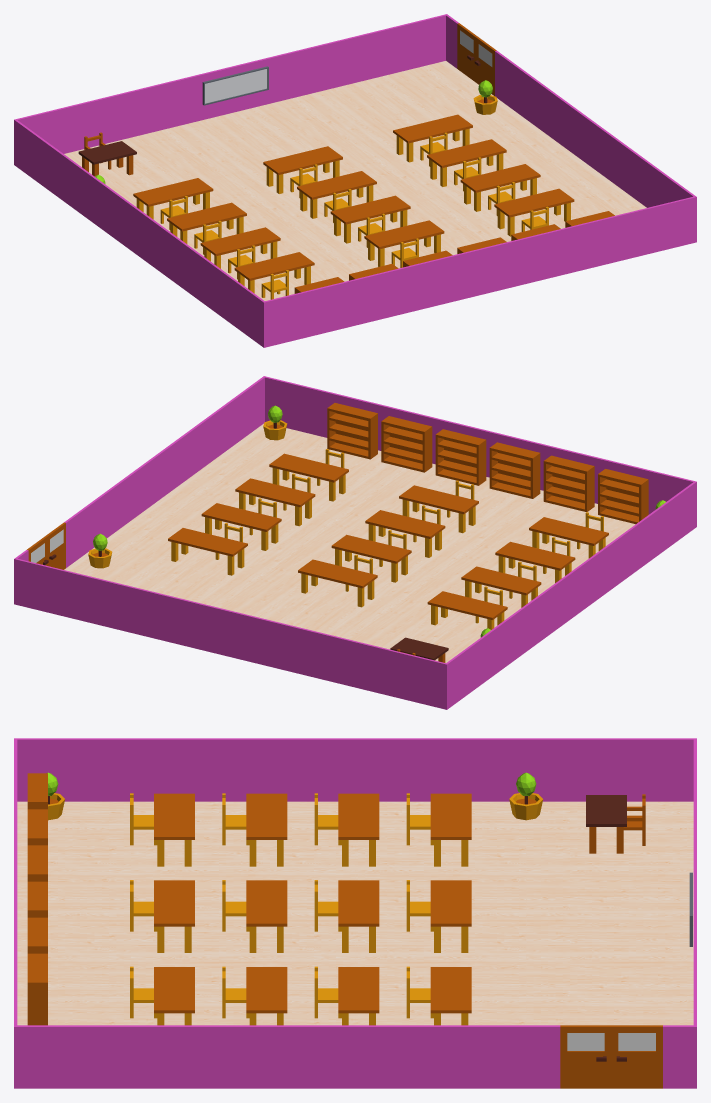
The model's file is 2_ClassRoom1.fbx.
3 views of the same model, one above another, from view 1: azimuth 30°, elevation 25°; view 2: azimuth 150°, elevation 25°; view 3: azimuth 270°, elevation 25° (orthographic). The views are drawn at different scales.
Parts seen in each view (by area): view 1: 1_Class2, 0_InnerGround.007, 0_Chair&Table.003, 0_Chair&Table.009, 0_Chair&Table.006, 0_Boards.002, 0_Chair&Table.004, 0_Chair&Table.002, 0_Chair&Table.008, 0_Chair&Table.001, 0_Chair&Table.007, 0_Chair&Table.018 (+7 smaller); view 2: 0_InnerGround.007, 1_Class2, 0_Shelf.005, 0_Shelf.006, 0_Shelf.008, 0_Shelf.007, 0_Shelf.009, 0_Shelf.004, 0_Chair&Table.009, 0_Chair&Table.001, 0_Chair&Table.004, 0_Chair&Table.008 (+12 smaller); view 3: 0_InnerGround.007, 1_Class2, 2_Door2Class, 2_Door1Class.005, 0_Chair&Table.011, 0_Chair&Table.022, 0_Chair&Table.002, 0_Chair&Table.004, 0_Chair&Table.005, 0_Chair&Table.018, 0_Chair&Table.001, 0_Chair&Table.003 (+23 smaller).
Part boxes in pixels (x1=…): 1_Class2: x1=14, y1=14, x2=696, y2=347; 0_InnerGround.007: x1=64, y1=61, x2=646, y2=300; 0_Chair&Table.003: x1=297, y1=171, x2=376, y2=218; 0_Chair&Table.009: x1=393, y1=114, x2=472, y2=162; 0_Chair&Table.006: x1=494, y1=188, x2=574, y2=236; 0_Boards.002: x1=202, y1=66, x2=268, y2=105; 0_Chair&Table.004: x1=263, y1=146, x2=342, y2=193; 0_Chair&Table.002: x1=330, y1=195, x2=410, y2=243; 0_Chair&Table.008: x1=427, y1=139, x2=506, y2=186; 0_Chair&Table.001: x1=364, y1=220, x2=444, y2=266; 0_Chair&Table.007: x1=460, y1=164, x2=540, y2=211; 0_Chair&Table.018: x1=167, y1=202, x2=246, y2=243; 0_InnerGround.007: x1=64, y1=423, x2=635, y2=662; 1_Class2: x1=14, y1=376, x2=696, y2=709; 0_Shelf.005: x1=543, y1=455, x2=594, y2=511; 0_Shelf.006: x1=489, y1=442, x2=540, y2=498; 0_Shelf.008: x1=381, y1=416, x2=432, y2=472; 0_Shelf.007: x1=435, y1=429, x2=486, y2=485; 0_Shelf.009: x1=327, y1=403, x2=377, y2=459; 0_Shelf.004: x1=598, y1=469, x2=648, y2=524; 0_Chair&Table.009: x1=168, y1=528, x2=247, y2=575; 0_Chair&Table.001: x1=399, y1=485, x2=478, y2=533; 0_Chair&Table.004: x1=298, y1=559, x2=377, y2=607; 0_Chair&Table.008: x1=201, y1=503, x2=281, y2=550; 0_InnerGround.007: x1=17, y1=801, x2=693, y2=1025; 1_Class2: x1=14, y1=738, x2=696, y2=1088; 2_Door2Class: x1=611, y1=1025, x2=662, y2=1088; 2_Door1Class.005: x1=560, y1=1025, x2=611, y2=1088; 0_Chair&Table.011: x1=246, y1=793, x2=287, y2=866; 0_Chair&Table.022: x1=430, y1=793, x2=471, y2=866; 0_Chair&Table.002: x1=246, y1=880, x2=287, y2=952; 0_Chair&Table.004: x1=430, y1=880, x2=471, y2=952; 0_Chair&Table.005: x1=154, y1=793, x2=194, y2=866; 0_Chair&Table.018: x1=338, y1=793, x2=379, y2=866; 0_Chair&Table.001: x1=154, y1=880, x2=194, y2=952; 0_Chair&Table.003: x1=338, y1=880, x2=379, y2=952.
Size of the model in its own units: 2000 by 2015 by 200.
Materials: 4 (2 with a texture image).
